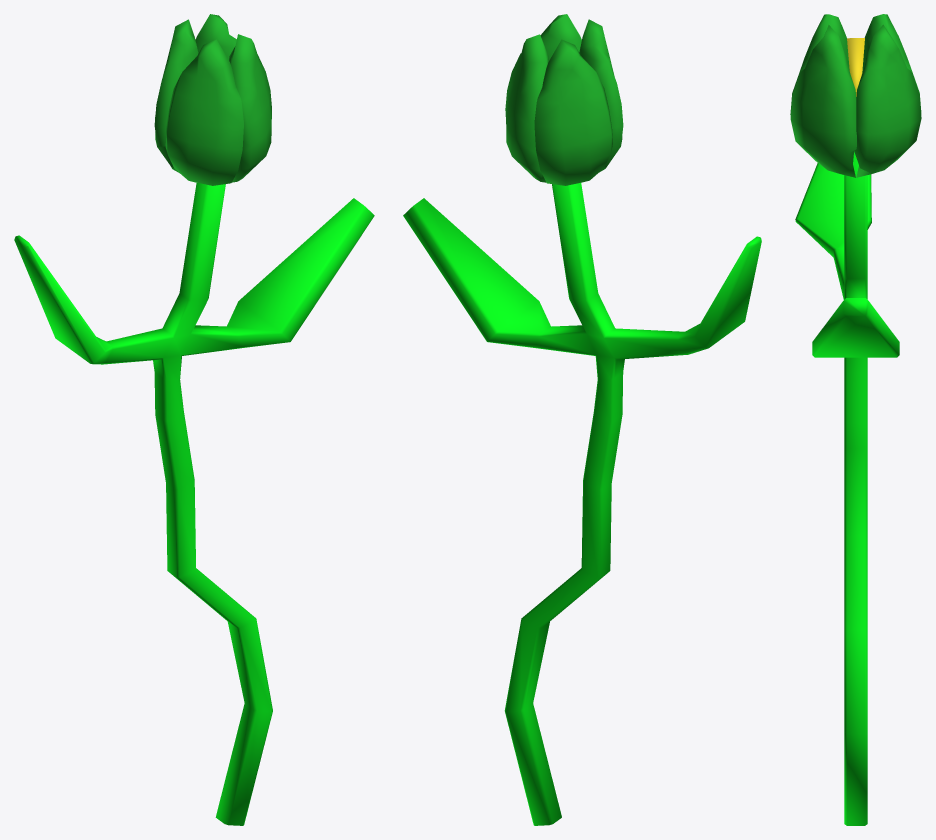
File: Closed sunflower.fbx
The picture shows the model from 3 angles, left to right: view 1: azimuth 30°, elevation 25°; view 2: azimuth 150°, elevation 25°; view 3: azimuth 270°, elevation 25°; orthographic projection.
Visible parts, largest first — view 1: Cube.001, Sphere; view 2: Cube.001, Sphere; view 3: Cube.001, Sphere.
Part boxes in pixels (x1,y1,x2,y2): Cube.001: (14,183,374,825); Sphere: (154,14,271,185); Cube.001: (403,183,761,825); Sphere: (505,14,623,185); Cube.001: (795,151,899,825); Sphere: (790,14,921,177).
Size of the model in its own units: 8.62 by 18.88 by 2.83.
